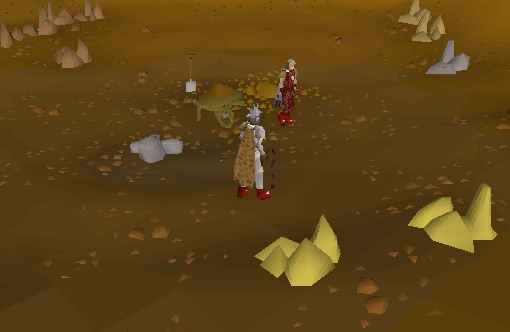copper: (47, 35, 104, 77)
gold: (245, 207, 356, 297), (399, 178, 510, 262)
tin: (418, 36, 481, 87)
